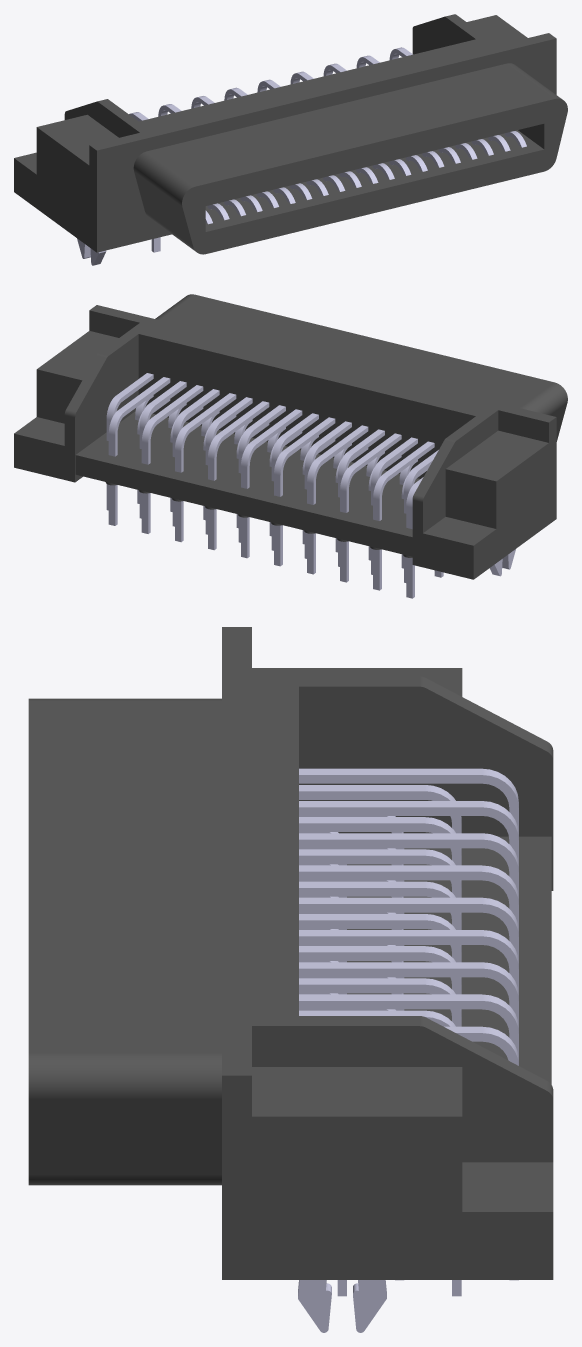
3 views of the same model, one above another, from view 1: azimuth 30°, elevation 25°; view 2: azimuth 150°, elevation 25°; view 3: azimuth 270°, elevation 25° (orthographic). The views are drawn at different scales.
Parts seen in each view (by area): view 1: ME_PLC_1734037-4_H.Select_00706751_3; view 2: ME_PLC_1734037-4_H.Select_00706751_3; view 3: ME_PLC_1734037-4_H.Select_00706751_3.
Boxes of the visible parts, box(x1,y1,x2,y2) form: ME_PLC_1734037-4_H.Select_00706751_3: box(14, 14, 567, 265); ME_PLC_1734037-4_H.Select_00706751_3: box(14, 294, 567, 598); ME_PLC_1734037-4_H.Select_00706751_3: box(28, 627, 553, 1332).
Bounding box in the file's own units: 0.0353 × 0.0106 × 0.0175.
